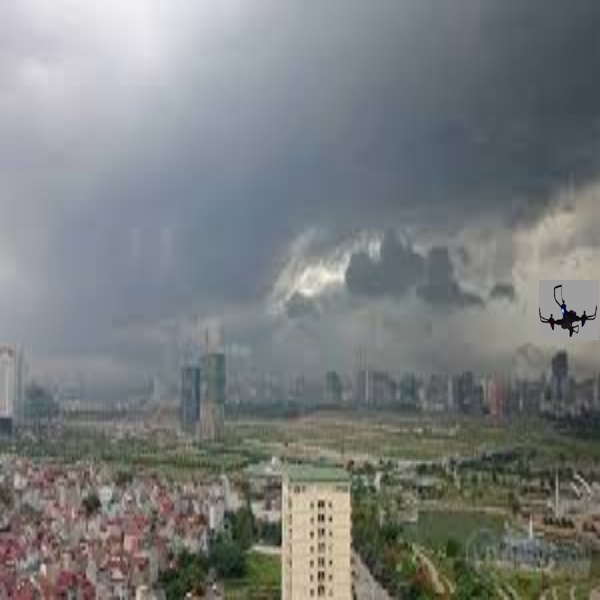drone: (539, 276, 600, 338)
